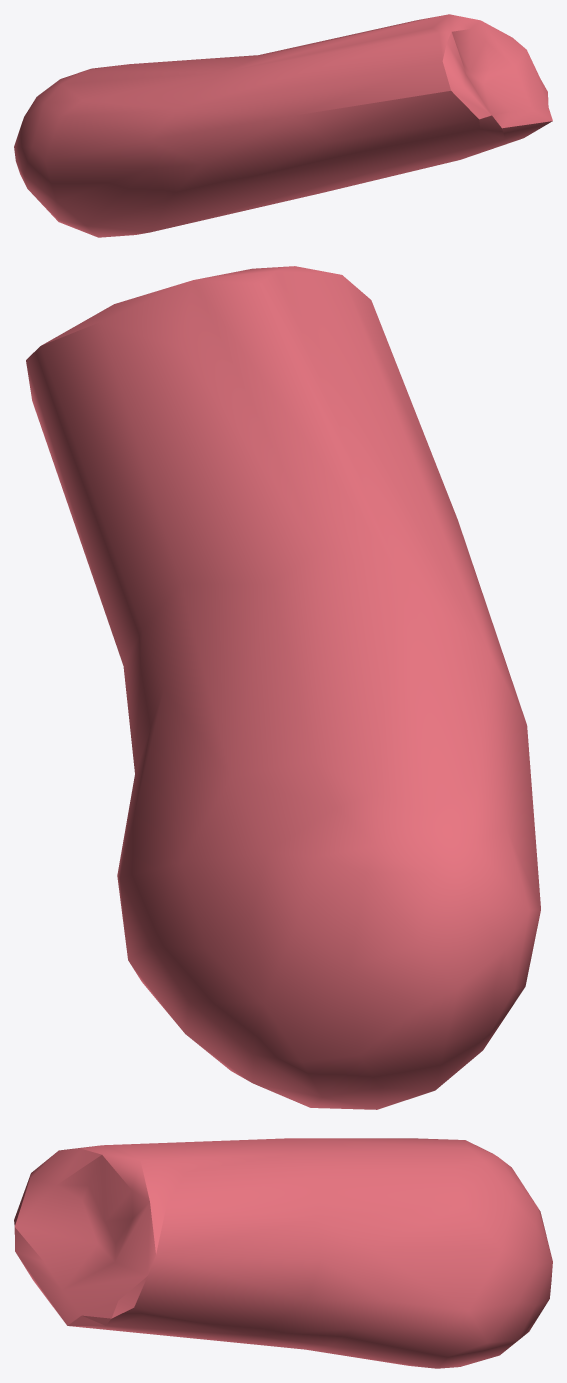
Rendered from fma14768.glb.
3 views of the same model, one above another, from view 1: azimuth 30°, elevation 25°; view 2: azimuth 150°, elevation 25°; view 3: azimuth 270°, elevation 25° (orthographic). The views are drawn at different scales.
Parts seen in each view (by area): view 1: FMA14768; view 2: FMA14768; view 3: FMA14768.
Boxes of the visible parts, bbox=[...] form: FMA14768: bbox=[14, 14, 552, 237]; FMA14768: bbox=[26, 266, 540, 1109]; FMA14768: bbox=[14, 1138, 552, 1368].
Bounding box in the file's own units: 0.0124 × 0.00813 × 0.0126.
